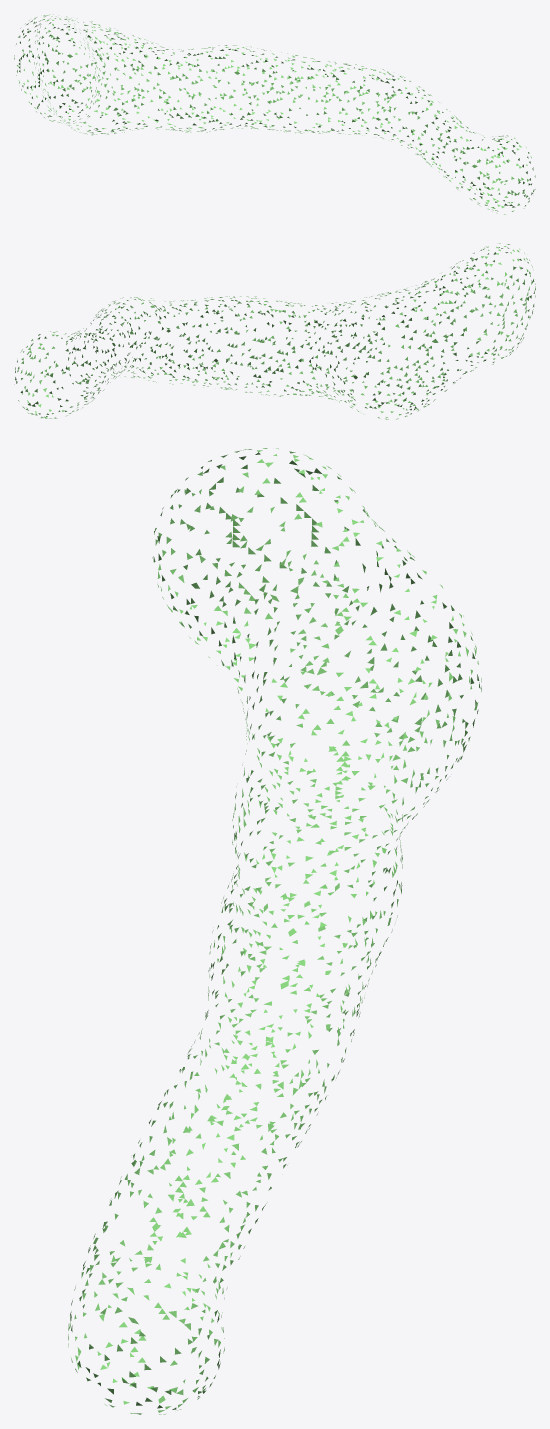
Rendered from morph_016.glb.
3 views of the same model, one above another, from view 1: azimuth 30°, elevation 25°; view 2: azimuth 150°, elevation 25°; view 3: azimuth 270°, elevation 25° (orthographic). The views are drawn at different scales.
Size of the model in its own units: 101 by 56.59 by 38.91.
